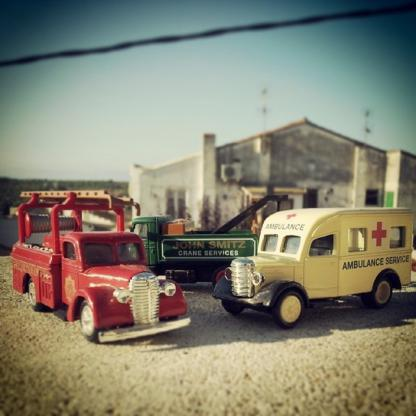Ambulance: (212, 208, 409, 332)
Truck: (12, 203, 199, 348), (127, 197, 291, 289)
